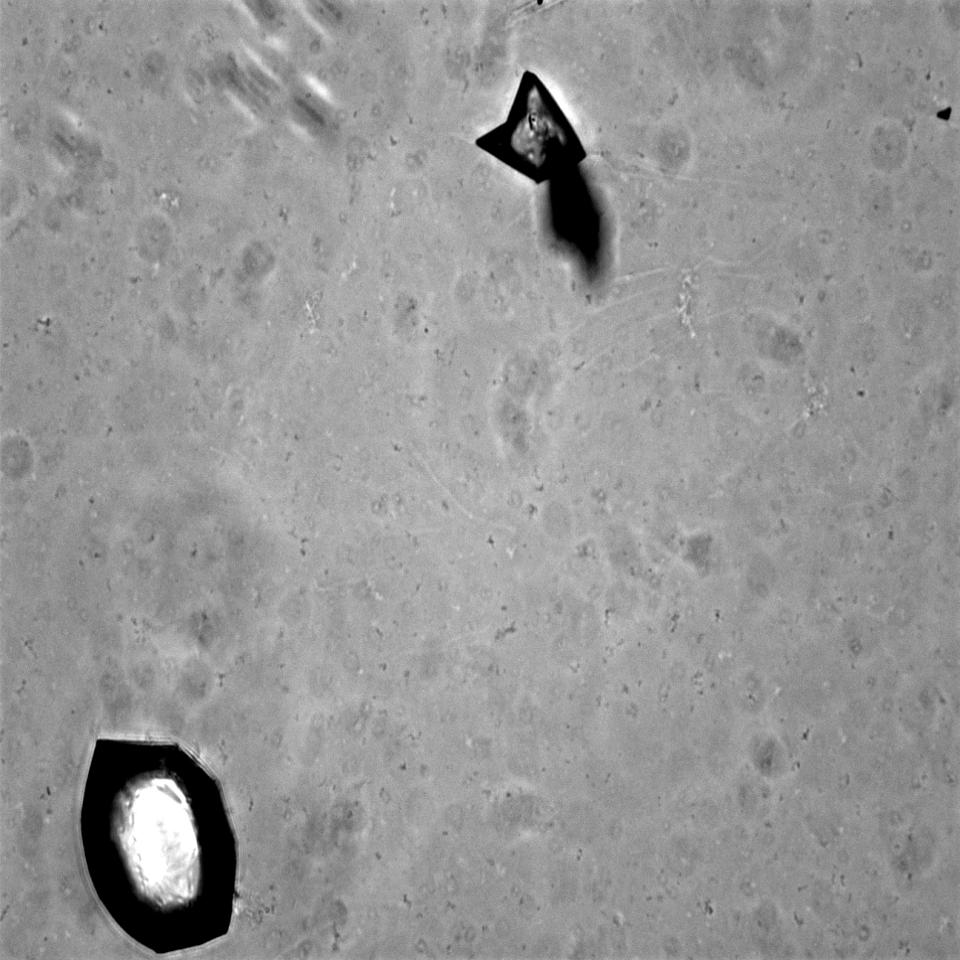crystal: (70, 730, 250, 950), (457, 55, 597, 200)
